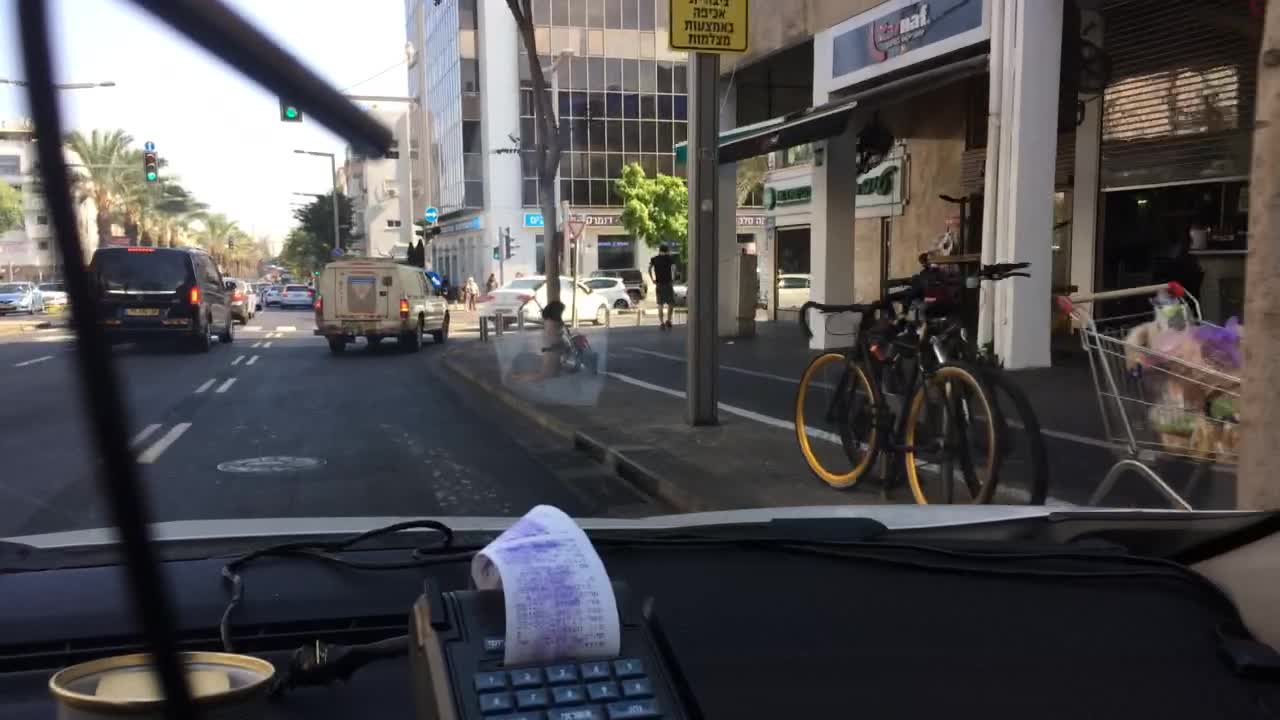bike: (848, 254, 1050, 503), (793, 290, 1004, 505), (543, 327, 598, 380), (772, 274, 811, 311)
car: (71, 247, 233, 356), (314, 257, 451, 354), (472, 275, 610, 327), (580, 275, 628, 311), (0, 278, 41, 317), (221, 278, 252, 324), (621, 269, 648, 305), (35, 281, 71, 307), (523, 281, 553, 308), (281, 287, 311, 310), (266, 281, 284, 310), (251, 286, 263, 311)
person: (645, 241, 682, 329), (462, 275, 478, 307), (484, 274, 499, 299)
traffic light: (281, 82, 302, 122), (143, 154, 156, 179), (312, 265, 321, 278)
traffic sign: (667, 0, 751, 49), (424, 266, 444, 292), (424, 205, 436, 224), (332, 248, 345, 263), (143, 139, 153, 151)
